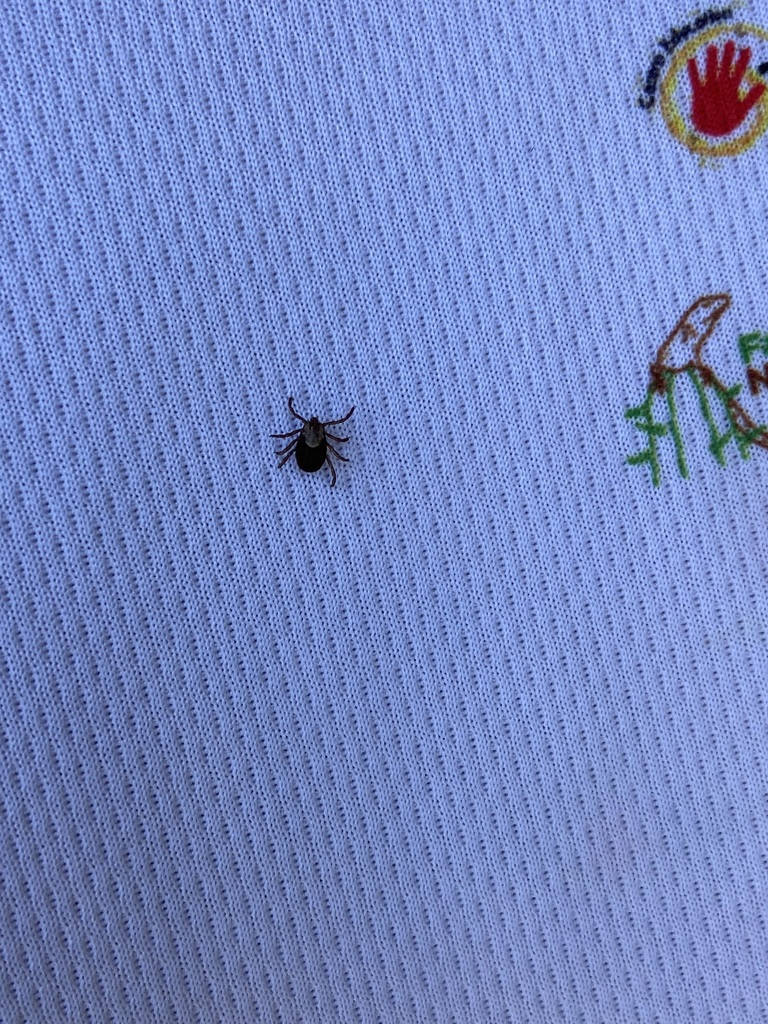garrapata: (269, 386, 359, 493)
